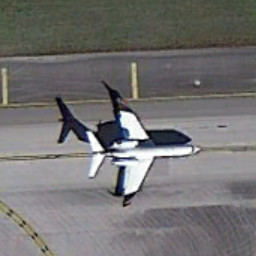Airplane: (60, 91, 210, 221)
